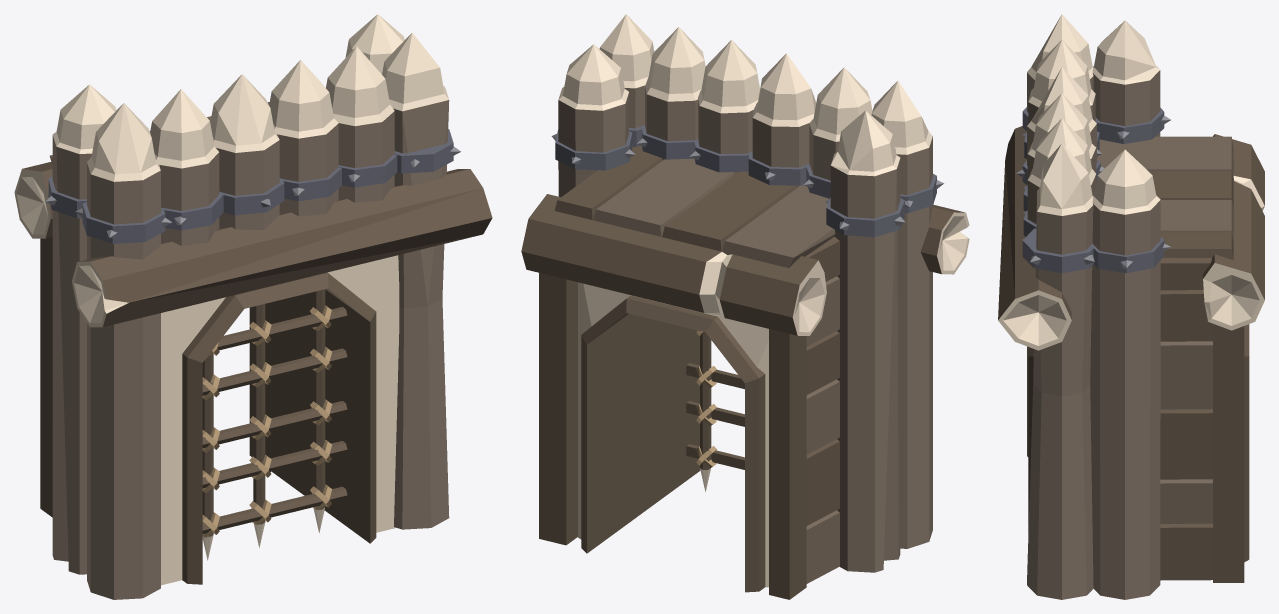
File: _MINNOR_GATES_02.fbx
3 views of the same model, side by side, from view 1: azimuth 30°, elevation 25°; view 2: azimuth 150°, elevation 25°; view 3: azimuth 270°, elevation 25° (orthographic). The views are drawn at different scales.
Visible parts, largest first — view 1: MINNOR_GATES_2; view 2: MINNOR_GATES_2; view 3: MINNOR_GATES_2.
Boxes of the visible parts, x1,y1,x2,y2 form: MINNOR_GATES_2: [14, 14, 492, 599]; MINNOR_GATES_2: [521, 14, 969, 599]; MINNOR_GATES_2: [998, 14, 1264, 599].
Bounding box in the file's own units: 694 × 842 × 460.
